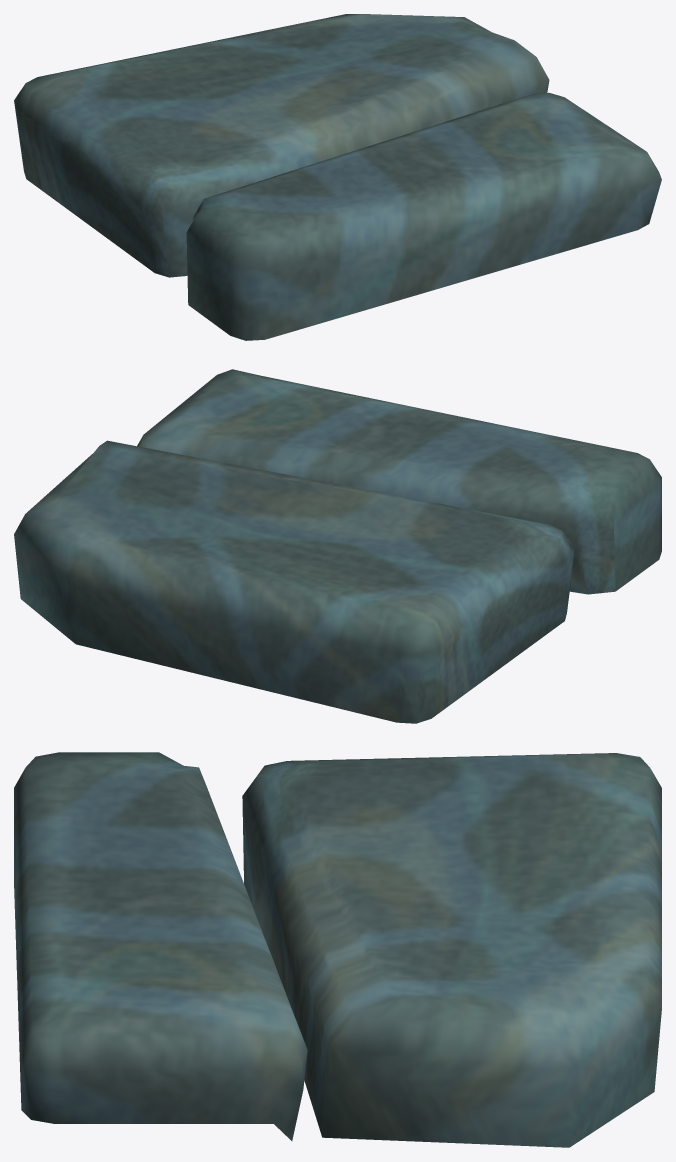
Rendered from BlockTile_D.dae.
3 views of the same model, one above another, from view 1: azimuth 30°, elevation 25°; view 2: azimuth 150°, elevation 25°; view 3: azimuth 270°, elevation 25° (orthographic). The views are drawn at different scales.
Parts seen in each view (by area): view 1: BlockTile_D; view 2: BlockTile_D; view 3: BlockTile_D.
Part boxes in pixels (bbox=[...]): BlockTile_D: bbox=[14, 14, 661, 340]; BlockTile_D: bbox=[14, 369, 661, 723]; BlockTile_D: bbox=[14, 752, 661, 1147].
Size of what is drawn, in the model's own units: 90 by 20.45 by 86.84.
